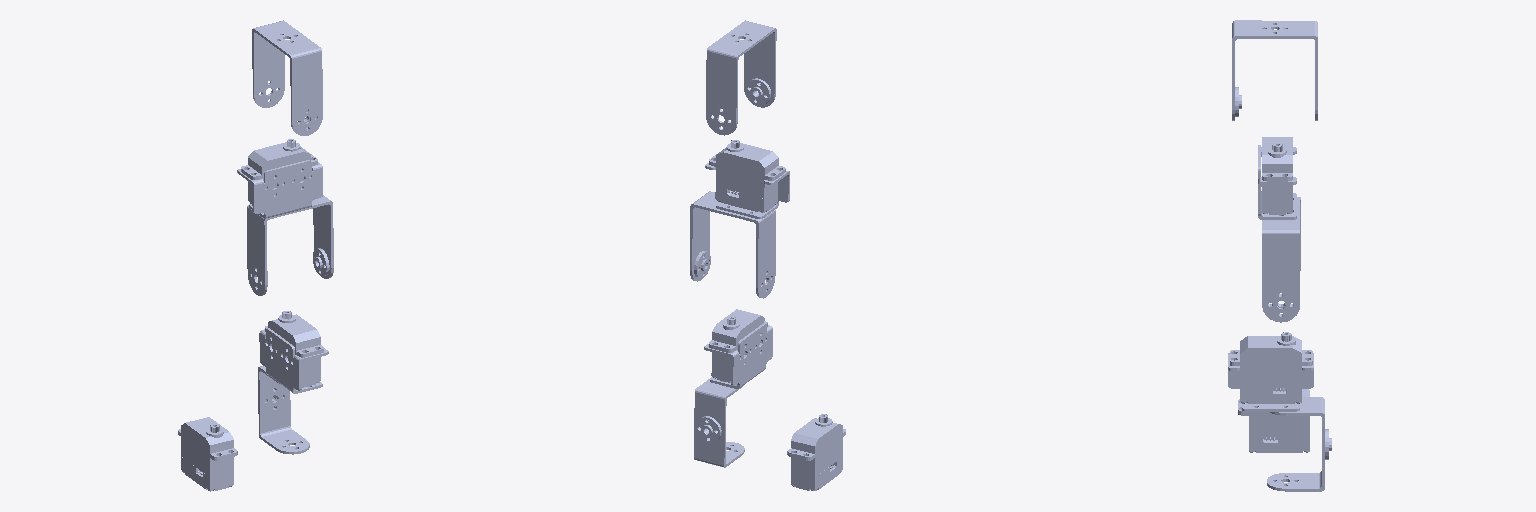
The robot description file, URDF, robot "arm_assembly_5":
<?xml version="1.0" encoding="utf-8"?>
<!-- This URDF was automatically created by SolidWorks to URDF Exporter! Originally created by [author] ([email redacted]) 
     Commit Version: 1.6.0-1-g15f4949  Build Version: 1.6.7594.29634
     For more information, please see http://wiki.ros.org/sw_urdf_exporter -->
<robot
  name="arm_assembly_5">
  <link
    name="base_link">
    <inertial>
      <origin
        xyz="0.018792 0.01999 -0.010001"
        rpy="0 0 0" />
      <mass
        value="0.031905" />
      <inertia
        ixx="5.4828E-06"
        ixy="8.0892E-08"
        ixz="9.1152E-11"
        iyy="5.2647E-06"
        iyz="-2.6656E-10"
        izz="8.6771E-06" />
    </inertial>
    <visual>
      <origin
        xyz="0 0 0"
        rpy="0 0 0" />
      <geometry>
        <mesh
          filename="package://arm_assembly_5/meshes/base_link.STL" />
      </geometry>
      <material
        name="">
        <color
          rgba="0.79216 0.81961 0.93333 1" />
      </material>
    </visual>
    <collision>
      <origin
        xyz="0 0 0"
        rpy="0 0 0" />
      <geometry>
        <mesh
          filename="package://arm_assembly_5/meshes/base_link.STL" />
      </geometry>
    </collision>
  </link>
  <link
    name="link1">
    <inertial>
      <origin
        xyz="0.0086911 0.0060945 0.027002"
        rpy="0 0 0" />
      <mass
        value="0.04101" />
      <inertia
        ixx="9.4621E-06"
        ixy="-3.7028E-07"
        ixz="-5.3537E-07"
        iyy="9.1864E-06"
        iyz="-5.2348E-07"
        izz="1.2798E-05" />
    </inertial>
    <visual>
      <origin
        xyz="0 0 0"
        rpy="0 0 0" />
      <geometry>
        <mesh
          filename="package://arm_assembly_5/meshes/link1.STL" />
      </geometry>
      <material
        name="">
        <color
          rgba="0.79216 0.81961 0.93333 1" />
      </material>
    </visual>
    <collision>
      <origin
        xyz="0 0 0"
        rpy="0 0 0" />
      <geometry>
        <mesh
          filename="package://arm_assembly_5/meshes/link1.STL" />
      </geometry>
    </collision>
  </link>
  <joint
    name="joint1"
    type="revolute">
    <origin
      xyz="0.043 0.010099 -0.010156"
      rpy="-1.5708 1.567 -1.5708" />
    <parent
      link="base_link" />
    <child
      link="link1" />
    <axis
      xyz="0 0 -1" />
    <limit
      lower="0"
      upper="3.1415"
      effort="0"
      velocity="0" />
  </joint>
  <link
    name="link2">
    <inertial>
      <origin
        xyz="-0.0035099 0.043261 0.034631"
        rpy="0 0 0" />
      <mass
        value="0.044197" />
      <inertia
        ixx="3.3374E-05"
        ixy="1.0834E-06"
        ixz="5.9798E-07"
        iyy="1.2428E-05"
        iyz="-7.3005E-06"
        izz="2.4892E-05" />
    </inertial>
    <visual>
      <origin
        xyz="0 0 0"
        rpy="0 0 0" />
      <geometry>
        <mesh
          filename="package://arm_assembly_5/meshes/link2.STL" />
      </geometry>
      <material
        name="">
        <color
          rgba="0.79216 0.81961 0.93333 1" />
      </material>
    </visual>
    <collision>
      <origin
        xyz="0 0 0"
        rpy="0 0 0" />
      <geometry>
        <mesh
          filename="package://arm_assembly_5/meshes/link2.STL" />
      </geometry>
    </collision>
  </link>
  <joint
    name="joint2"
    type="revolute">
    <origin
      xyz="-0.00052573 0.032998 0.027656"
      rpy="1.5746 -1.5708 0" />
    <parent
      link="link1" />
    <child
      link="link2" />
    <axis
      xyz="0 0 -1" />
    <limit
      lower="0"
      upper="3.1415"
      effort="0"
      velocity="0" />
  </joint>
  <link
    name="link3">
    <inertial>
      <origin
        xyz="-0.0013502 -0.0048384 0.040737"
        rpy="0 0 0" />
      <mass
        value="0.046897" />
      <inertia
        ixx="2.1054E-05"
        ixy="-7.094E-07"
        ixz="3.5074E-07"
        iyy="1.9131E-05"
        iyz="9.6626E-07"
        izz="1.3945E-05" />
    </inertial>
    <visual>
      <origin
        xyz="0 0 0"
        rpy="0 0 0" />
      <geometry>
        <mesh
          filename="package://arm_assembly_5/meshes/link3.STL" />
      </geometry>
      <material
        name="">
        <color
          rgba="0.79216 0.81961 0.93333 1" />
      </material>
    </visual>
    <collision>
      <origin
        xyz="0 0 0"
        rpy="0 0 0" />
      <geometry>
        <mesh
          filename="package://arm_assembly_5/meshes/link3.STL" />
      </geometry>
    </collision>
  </link>
  <joint
    name="joint3"
    type="revolute">
    <origin
      xyz="-0.0035812 0.076462 0.028599"
      rpy="-1.5708 0 0.012103" />
    <parent
      link="link2" />
    <child
      link="link3" />
    <axis
      xyz="0 0 -1" />
    <limit
      lower="0"
      upper="3.1415"
      effort="0"
      velocity="0" />
  </joint>
  <link
    name="link4">
    <inertial>
      <origin
        xyz="-0.0028126 0.066034 -0.029727"
        rpy="0 0 0" />
      <mass
        value="0.046897" />
      <inertia
        ixx="3.8337E-05"
        ixy="1.0617E-06"
        ixz="-2.9932E-07"
        iyy="1.4304E-05"
        iyz="4.4588E-06"
        izz="2.8258E-05" />
    </inertial>
    <visual>
      <origin
        xyz="0 0 0"
        rpy="0 0 0" />
      <geometry>
        <mesh
          filename="package://arm_assembly_5/meshes/link4.STL" />
      </geometry>
      <material
        name="">
        <color
          rgba="0.79216 0.81961 0.93333 1" />
      </material>
    </visual>
    <collision>
      <origin
        xyz="0 0 0"
        rpy="0 0 0" />
      <geometry>
        <mesh
          filename="package://arm_assembly_5/meshes/link4.STL" />
      </geometry>
    </collision>
  </link>
  <joint
    name="joint4"
    type="revolute">
    <origin
      xyz="0.023994 -0.0033845 0.035099"
      rpy="1.5708 0 1.5691" />
    <parent
      link="link3" />
    <child
      link="link4" />
    <axis
      xyz="0 0 -1" />
    <limit
      lower="0"
      upper="3.1415"
      effort="0"
      velocity="0" />
  </joint>
  <link
    name="link5">
    <inertial>
      <origin
        xyz="0.0051339 -0.0014331 0.035909"
        rpy="0 0 0" />
      <mass
        value="0.044197" />
      <inertia
        ixx="1.6768E-05"
        ixy="6.8764E-07"
        ixz="-9.2737E-07"
        iyy="1.6802E-05"
        iyz="3.3996E-07"
        izz="1.1763E-05" />
    </inertial>
    <visual>
      <origin
        xyz="0 0 0"
        rpy="0 0 0" />
      <geometry>
        <mesh
          filename="package://arm_assembly_5/meshes/link5.STL" />
      </geometry>
      <material
        name="">
        <color
          rgba="0.79216 0.81961 0.93333 1" />
      </material>
    </visual>
    <collision>
      <origin
        xyz="0 0 0"
        rpy="0 0 0" />
      <geometry>
        <mesh
          filename="package://arm_assembly_5/meshes/link5.STL" />
      </geometry>
    </collision>
  </link>
  <joint
    name="joint5"
    type="revolute">
    <origin
      xyz="-0.0023444 0.101 -0.022099"
      rpy="1.5708 1.5691 -3.1416" />
    <parent
      link="link4" />
    <child
      link="link5" />
    <axis
      xyz="0 0 -1" />
    <limit
      lower="0"
      upper="3.1415"
      effort="0"
      velocity="0" />
  </joint>
  <link
    name="link6">
    <inertial>
      <origin
        xyz="-0.00033443 0.028182 -0.020504"
        rpy="0 0 0" />
      <mass
        value="0.009246" />
      <inertia
        ixx="9.4955E-06"
        ixy="4.3419E-08"
        ixz="-6.1714E-09"
        iyy="5.8371E-06"
        iyz="5.2006E-07"
        izz="4.5813E-06" />
    </inertial>
    <visual>
      <origin
        xyz="0 0 0"
        rpy="0 0 0" />
      <geometry>
        <mesh
          filename="package://arm_assembly_5/meshes/link6.STL" />
      </geometry>
      <material
        name="">
        <color
          rgba="0.79216 0.81961 0.93333 1" />
      </material>
    </visual>
    <collision>
      <origin
        xyz="0 0 0"
        rpy="0 0 0" />
      <geometry>
        <mesh
          filename="package://arm_assembly_5/meshes/link6.STL" />
      </geometry>
    </collision>
  </link>
  <joint
    name="joint6"
    type="revolute">
    <origin
      xyz="0.0033864 0.023994 0.030099"
      rpy="1.5708 0.012103 3.1398" />
    <parent
      link="link5" />
    <child
      link="link6" />
    <axis
      xyz="0 0 -1" />
    <limit
      lower="0"
      upper="3.1415"
      effort="0"
      velocity="0" />
  </joint>
</robot>

--- What the picture shows (computed from the rendered views, not written in the file) ---
The picture shows the robot from 3 angles, left to right: view 1: azimuth 30°, elevation 25°; view 2: azimuth 150°, elevation 25°; view 3: azimuth 270°, elevation 25°; orthographic projection.
Model arm_assembly_5 with 7 links and 6 joints (6 revolute), rooted at base_link, posed all joints at 0.
Visible links, largest first — view 1: link4, link2, link6, base_link; view 2: link4, link2, link6, base_link; view 3: link2, link4, base_link, link6.
Link boxes in pixels (left/top/right/bottom): link4: left=237, top=139, right=333, bottom=295; link2: left=258, top=311, right=328, bottom=454; link6: left=252, top=20, right=322, bottom=135; base_link: left=178, top=417, right=237, bottom=491; link4: left=690, top=140, right=789, bottom=298; link2: left=694, top=309, right=772, bottom=467; link6: left=706, top=20, right=776, bottom=135; base_link: left=787, top=414, right=845, bottom=490; link2: left=1228, top=332, right=1331, bottom=491; link4: left=1258, top=137, right=1300, bottom=322; base_link: left=1238, top=389, right=1309, bottom=452; link6: left=1232, top=20, right=1317, bottom=120.
Bounding box of the posed robot: 0.1066 × 0.0675 × 0.33 m (x, y, z).
4 mesh visuals loaded from 7 distinct referenced files (4 binary STL); not drawn: 3 (reference not matched to a file when rendering).